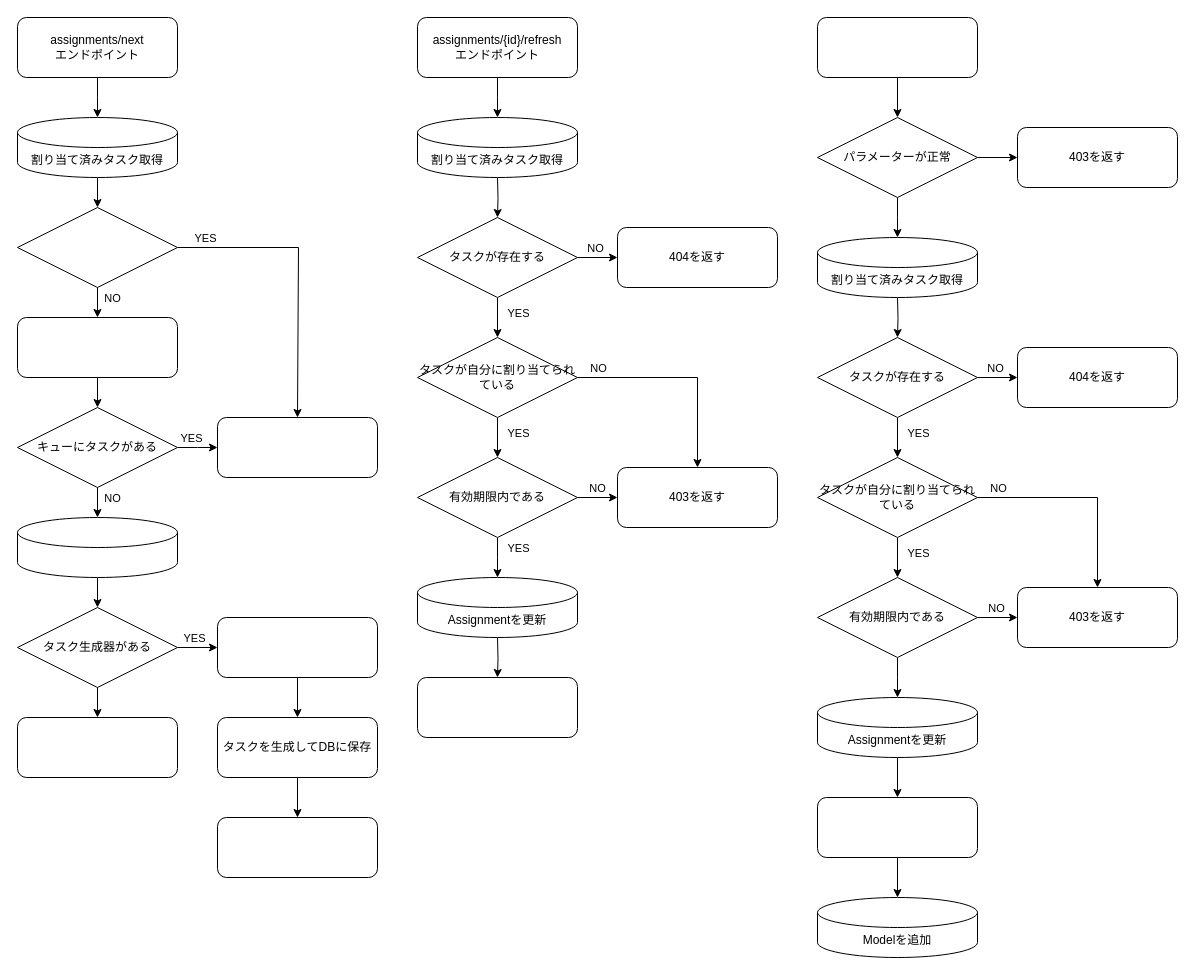
Some shapes in this 1195 by 975 pixel diagram are drawn without their labels. The shapes that lost their labels are listed below. From the top down, each one's box as (x1, y1, x2, y2) in pixels, then its label:
(816, 16, 978, 78): assignments/{id}/register エンドポイント
(16, 206, 178, 288): 割り当てられた タスクがある
(16, 316, 178, 378): キューを取得する
(216, 416, 378, 478): 取得したタスクを返す
(16, 516, 178, 578): タスク生成器を取得
(216, 616, 378, 678): ランダムにひとつ生成器を選ぶ
(416, 676, 578, 738): 新たな期限を返す
(16, 716, 178, 778): 204を返す
(216, 816, 378, 878): タスクを返す
(816, 796, 978, 858): モデルファイルを保存
